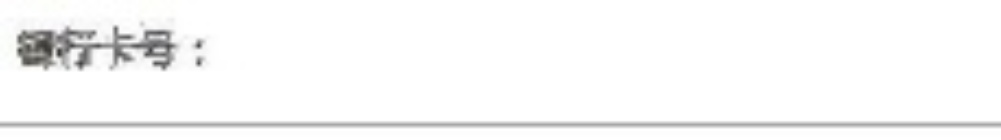EditText: (1, 1, 1000, 139)
